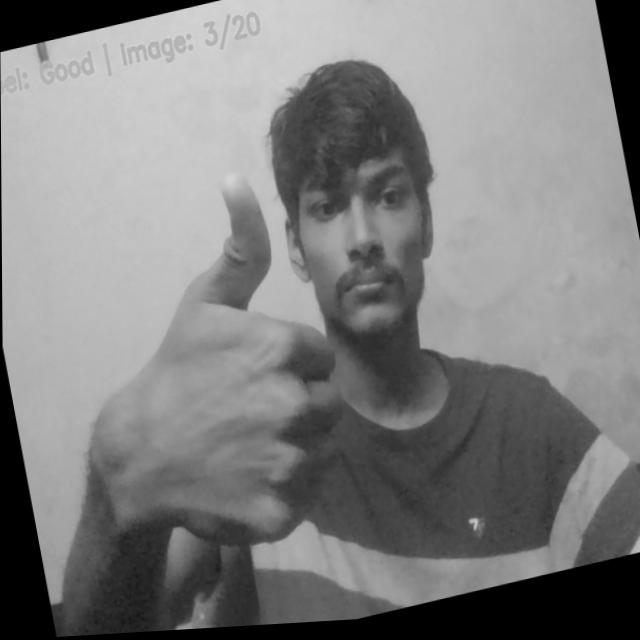Good: (66, 134, 371, 594)
